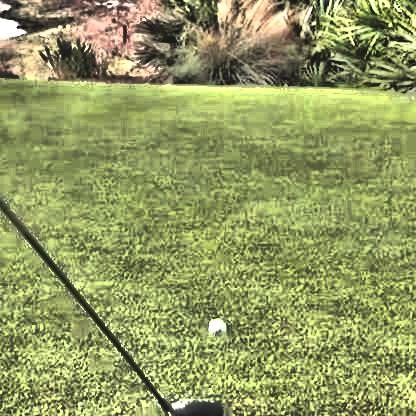golfball: (206, 315, 223, 335)
